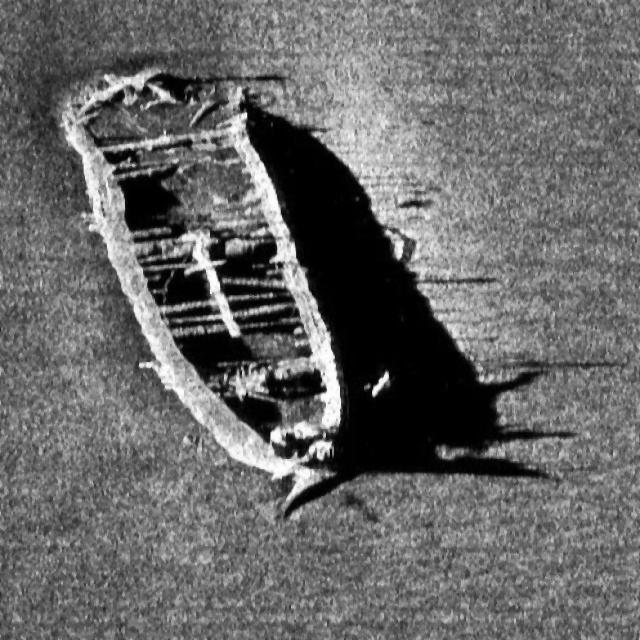Ship: (60, 53, 398, 511)
